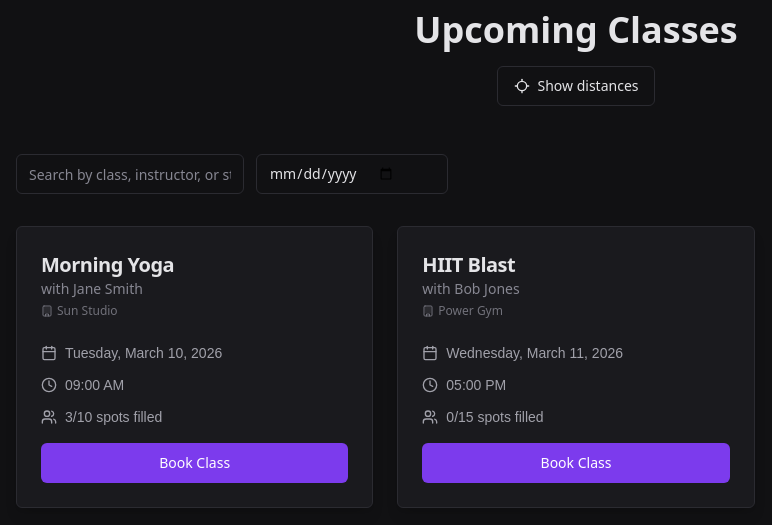
ClassSchedule › filters classes by instructor name
This screenshot has width=772, height=525.
Type "bob" into the field with placeholder "Search by class, instructor, or studio..." at (130, 174), box [16, 154, 244, 194]
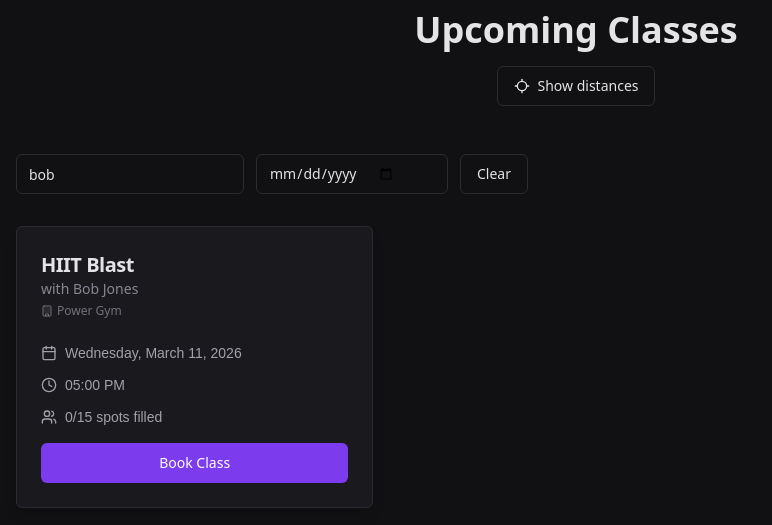
Expected: the heading "HIIT Blast" is shown, [41, 251, 138, 279]
Expected: the heading "Morning Yoga" is gone
